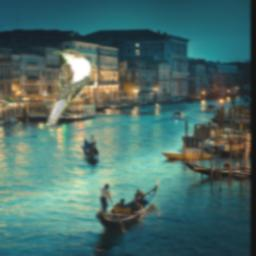Cuckoo: (46, 49, 91, 125)
